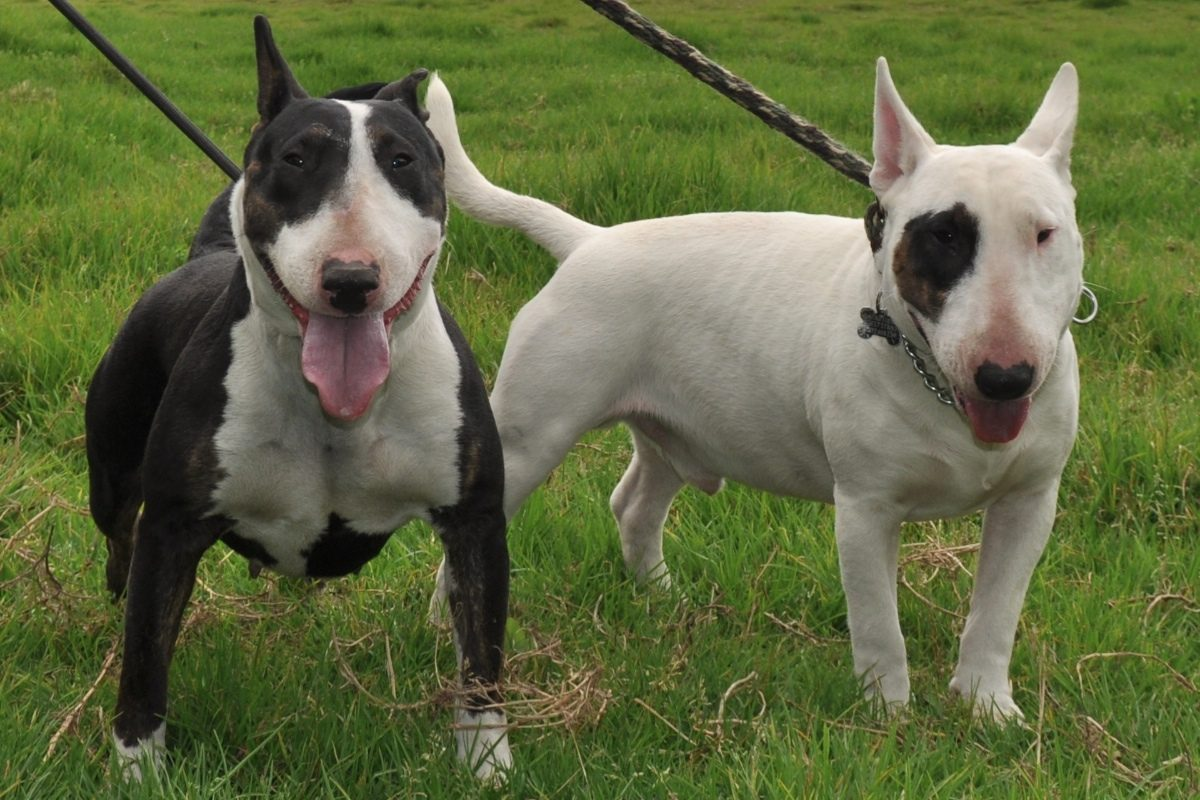bull_terrier: (418, 56, 1089, 732), (83, 11, 514, 784)
